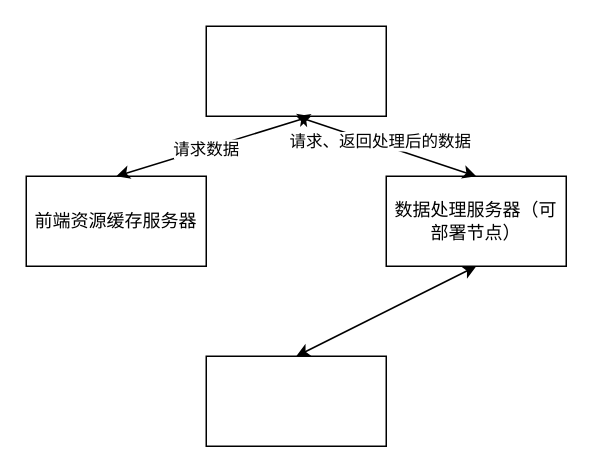
Image size: 593x473. Some labels were removed from this diagram. Each missing label, with the box of its shape:
数据库服务器: (205, 355, 386, 446)
用户客户端（浏览器）: (205, 25, 386, 116)
